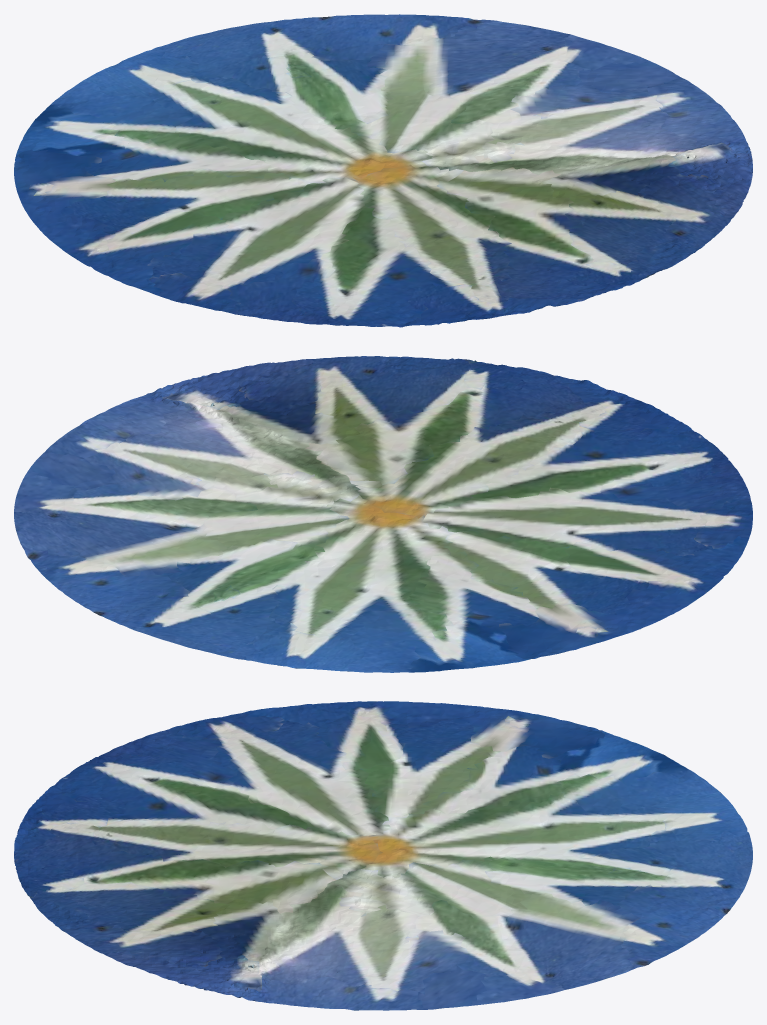
The model's file is S012_ArtificialGrass.glb.
The picture shows the model from 3 angles, top to bottom: view 1: azimuth 30°, elevation 25°; view 2: azimuth 150°, elevation 25°; view 3: azimuth 270°, elevation 25°; orthographic projection.
Visible parts, largest first — view 1: Object_4; view 2: Object_4; view 3: Object_4.
Boxes of the visible parts, box(x1,y1,x2,y2) form: Object_4: box(14, 14, 752, 327); Object_4: box(14, 356, 752, 672); Object_4: box(14, 701, 752, 1010).
Bounding box in the file's own units: 6.13 × 0.0711 × 6.13.
Materials: 1 (1 with a texture image).
